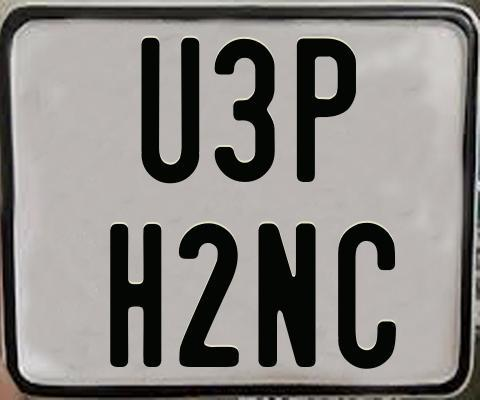2: (179, 223, 241, 372)
3: (212, 36, 279, 180)
C: (336, 222, 395, 371)
H: (107, 221, 159, 370)
N: (255, 221, 314, 367)
P: (295, 35, 359, 180)
U: (138, 36, 199, 187)
